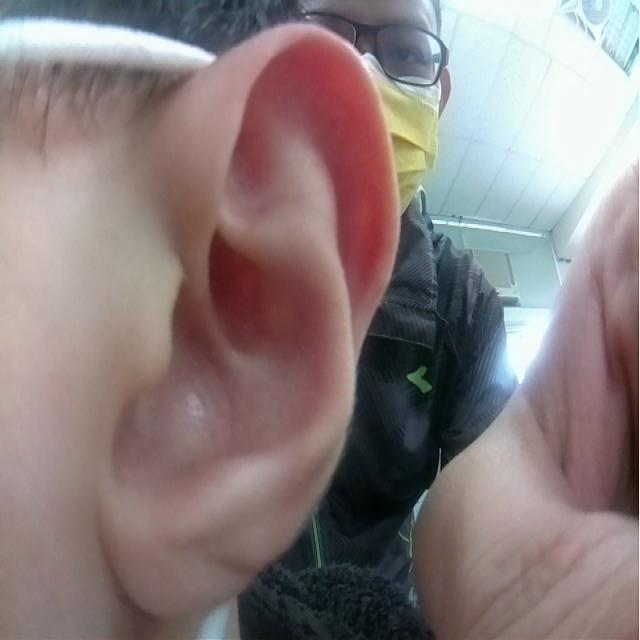no-earmuff: (94, 19, 400, 616)
